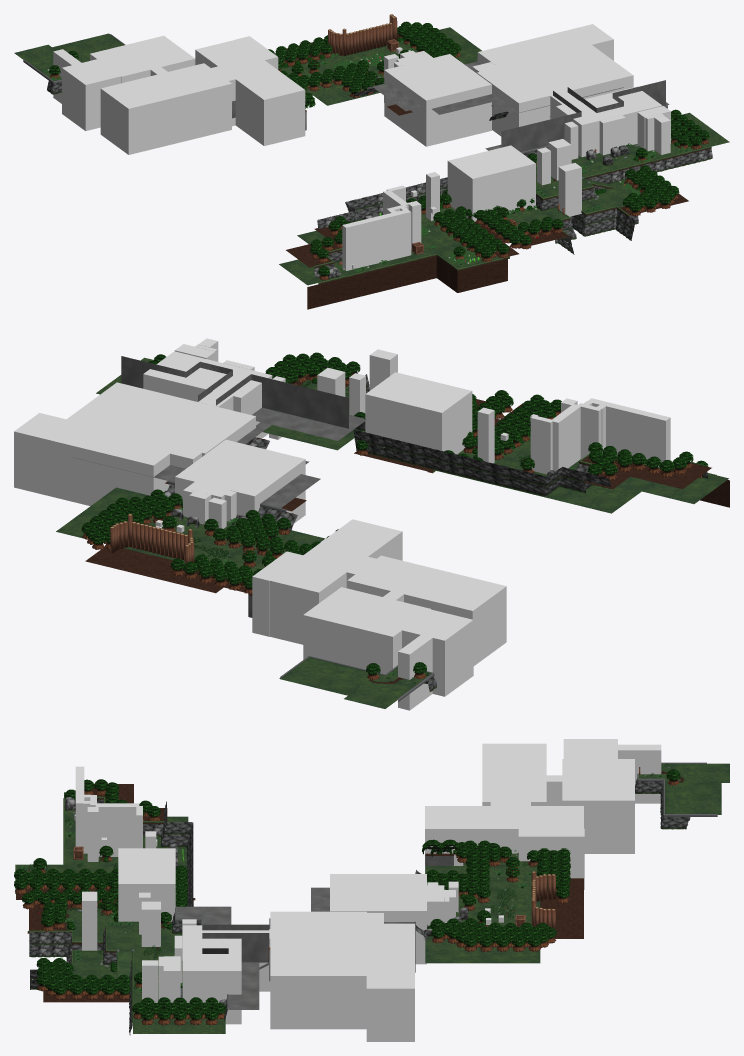
The model's file is world.glb.
3 views of the same model, one above another, from view 1: azimuth 30°, elevation 25°; view 2: azimuth 150°, elevation 25°; view 3: azimuth 270°, elevation 25° (orthographic). The views are drawn at different scales.
Visible parts, largest first — view 1: area_stone_.012, area_stone_.005, area_dirt_.012, area_dirt_.018, area_dirt_, floor_dirt_B.030, area_dirt_.003, area_stone_.015, area_stone_, area_stone_.006, area_stone_.013, floor_receive.002 (+23 smaller); view 2: area_stone_.006, area_stone_.005, area_dirt_.018, area_stone_.013, area_stone_.012, area_dirt_, area_dirt_.012, area_stone_.015, area_stone_, floor_receive.002, floor_receive.010, floor_receive.009 (+22 smaller); view 3: area_stone_.005, area_stone_.013, area_stone_.006, area_dirt_.018, floor_receive.009, area_dirt_.012, area_stone_, area_stone_.012, area_dirt_, floor_receive.006, floor_receive.010, area_dirt_.019 (+21 smaller).
Boxes of the visible parts, x1=… form: area_stone_.012: x1=100, y1=63, x2=231, y2=154; area_stone_.005: x1=477, y1=45, x2=633, y2=136; area_dirt_.012: x1=384, y1=54, x2=491, y2=146; area_dirt_.018: x1=195, y1=39, x2=305, y2=145; area_dirt_: x1=447, y1=145, x2=535, y2=221; floor_dirt_B.030: x1=307, y1=256, x2=507, y2=309; area_dirt_.003: x1=342, y1=209, x2=411, y2=270; area_stone_.015: x1=62, y1=58, x2=125, y2=130; area_stone_: x1=556, y1=86, x2=662, y2=157; area_stone_.006: x1=477, y1=24, x2=613, y2=66; area_stone_.013: x1=90, y1=35, x2=195, y2=83; floor_receive.002: x1=279, y1=214, x2=499, y2=285; area_stone_.006: x1=14, y1=413, x2=178, y2=505; area_stone_.005: x1=66, y1=382, x2=255, y2=456; area_dirt_.018: x1=269, y1=519, x2=402, y2=644; area_stone_.013: x1=303, y1=587, x2=431, y2=674; area_stone_.012: x1=347, y1=555, x2=506, y2=665; area_dirt_: x1=365, y1=372, x2=472, y2=461; area_dirt_.012: x1=175, y1=439, x2=305, y2=523; area_stone_.015: x1=396, y1=609, x2=473, y2=696; area_stone_: x1=143, y1=351, x2=272, y2=438; floor_receive.002: x1=455, y1=437, x2=728, y2=513; floor_receive.010: x1=279, y1=657, x2=431, y2=708; floor_receive.009: x1=56, y1=487, x2=325, y2=573; area_stone_.005: x1=270, y1=911, x2=366, y2=1029; area_stone_.013: x1=562, y1=759, x2=634, y2=853; area_stone_.006: x1=366, y1=923, x2=414, y2=1041; area_dirt_.018: x1=425, y1=806, x2=583, y2=873; floor_receive.009: x1=425, y1=854, x2=540, y2=963; area_dirt_.012: x1=330, y1=874, x2=426, y2=964; area_stone_: x1=182, y1=925, x2=241, y2=1024; area_stone_.012: x1=482, y1=743, x2=546, y2=805; area_dirt_: x1=118, y1=848, x2=175, y2=921; floor_receive.006: x1=107, y1=922, x2=225, y2=1033; floor_receive.010: x1=638, y1=763, x2=729, y2=814; area_dirt_.019: x1=518, y1=828, x2=584, y2=889.
Size of what is drawn, in the model's own units: 92.44 by 13.91 by 108.
8 materials, 5 textured.
